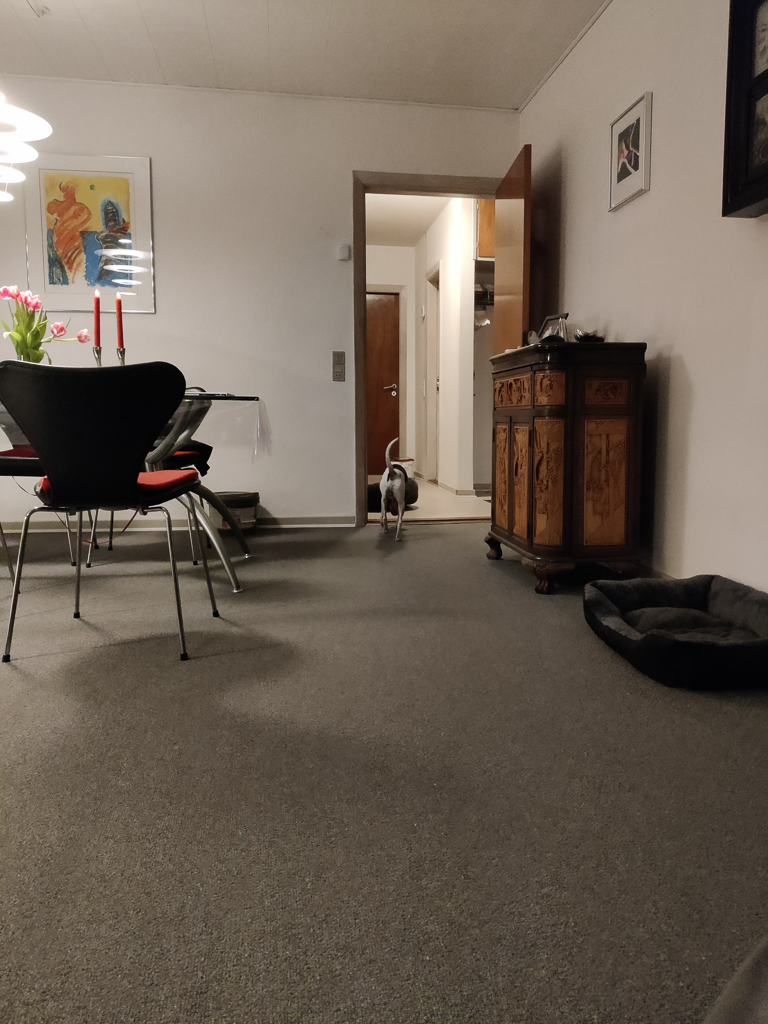Dog: (369, 432, 414, 551)
